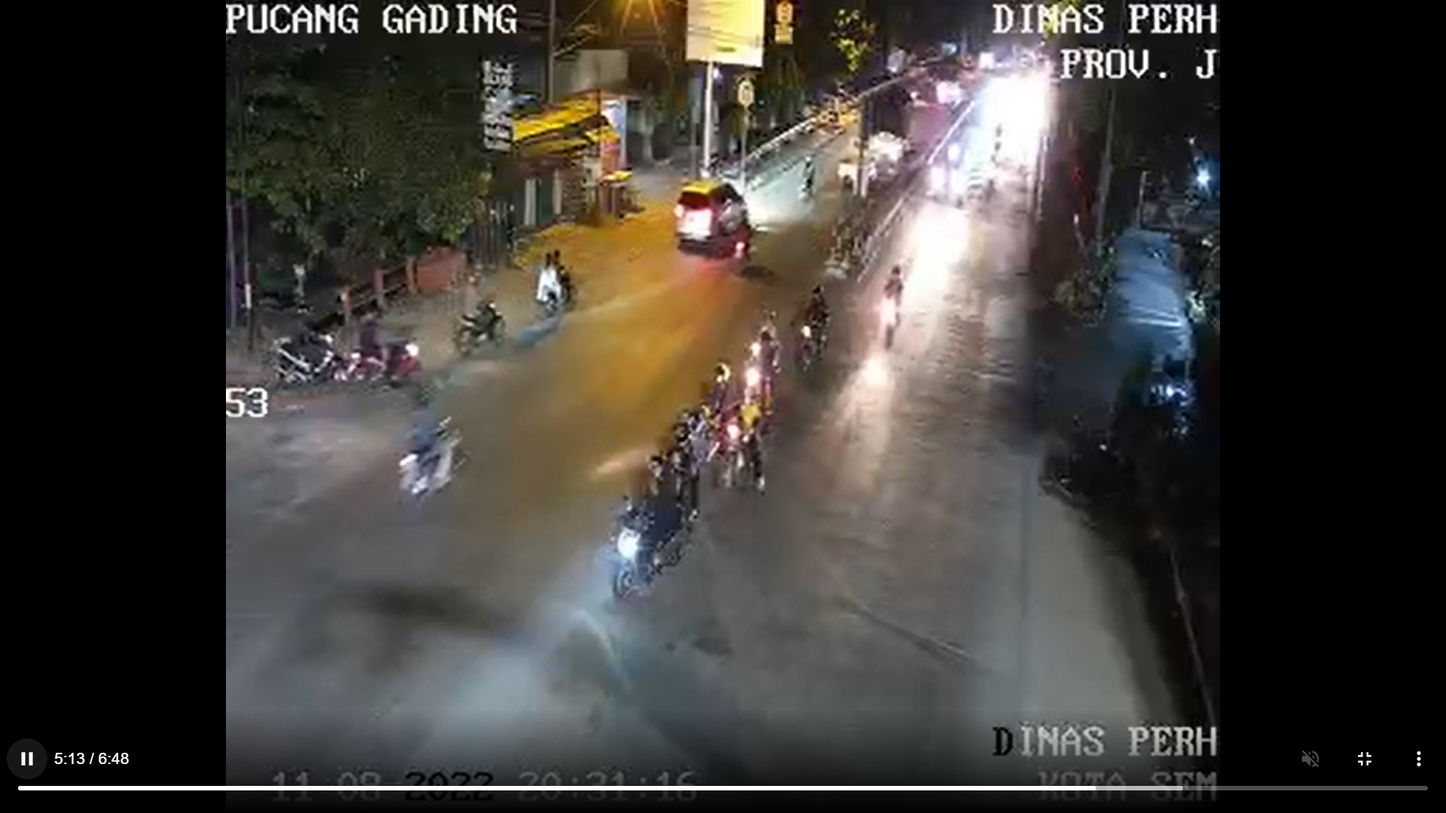with_helmet: (390, 387, 466, 508), (436, 269, 513, 365), (794, 281, 842, 381)
without_helmet: (608, 443, 696, 610), (531, 240, 588, 336)
